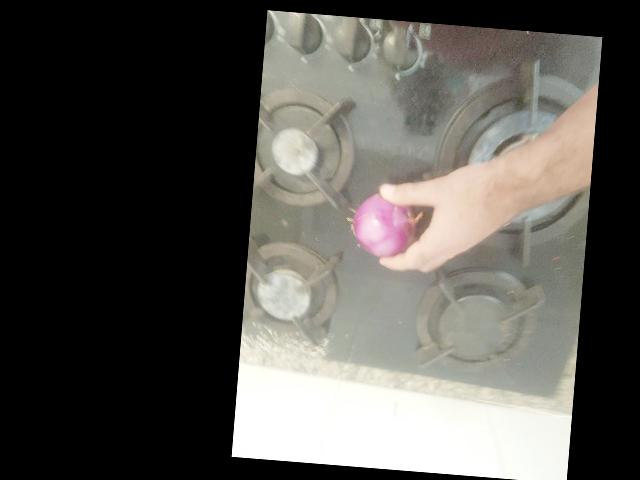onion: (300, 295, 363, 355)
